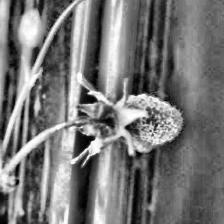Gray Mold: (73, 73, 184, 167)
